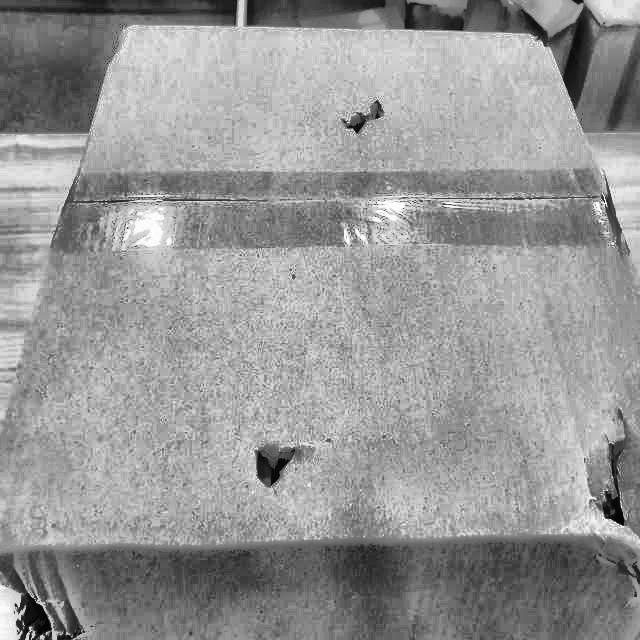box: (0, 25, 639, 639)
hole: (7, 570, 82, 640), (594, 435, 632, 555), (252, 435, 313, 499), (334, 85, 394, 139)
